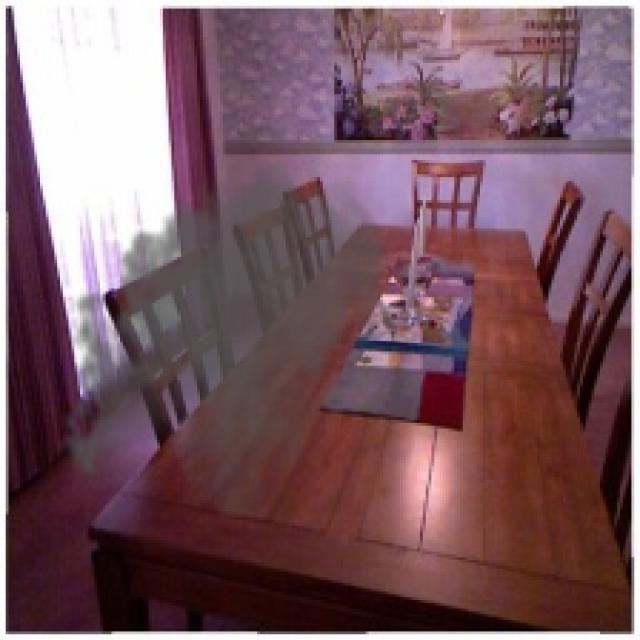smoke: (52, 146, 394, 517)
